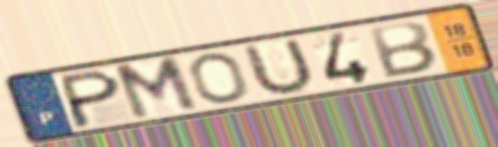4: (321, 28, 373, 86)
B: (366, 19, 441, 81)
M: (109, 53, 203, 124)
O: (186, 50, 252, 105)
P: (59, 67, 123, 131)
U: (241, 35, 317, 99)
